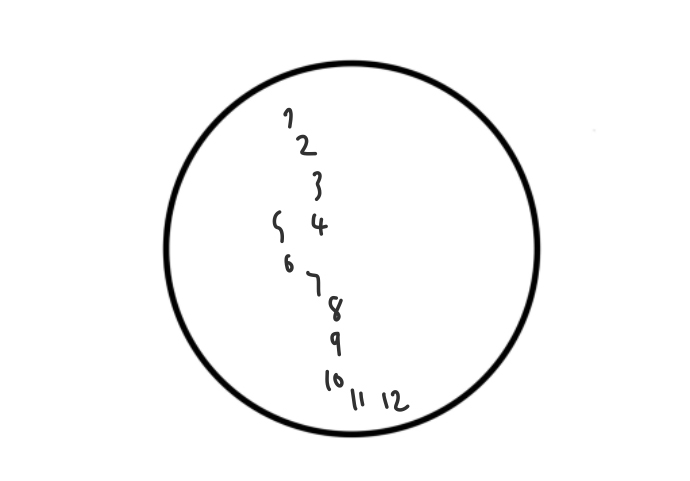eight: (326, 291, 345, 325)
eleven: (349, 383, 366, 415)
five: (270, 208, 287, 243)
four: (310, 212, 329, 236)
nine: (327, 329, 344, 358)
one: (280, 101, 296, 135)
seven: (305, 268, 327, 299)
six: (281, 251, 298, 275)
ten: (323, 368, 345, 394)
three: (309, 169, 324, 201)
twelve: (378, 389, 410, 412)
two: (294, 130, 320, 157)
